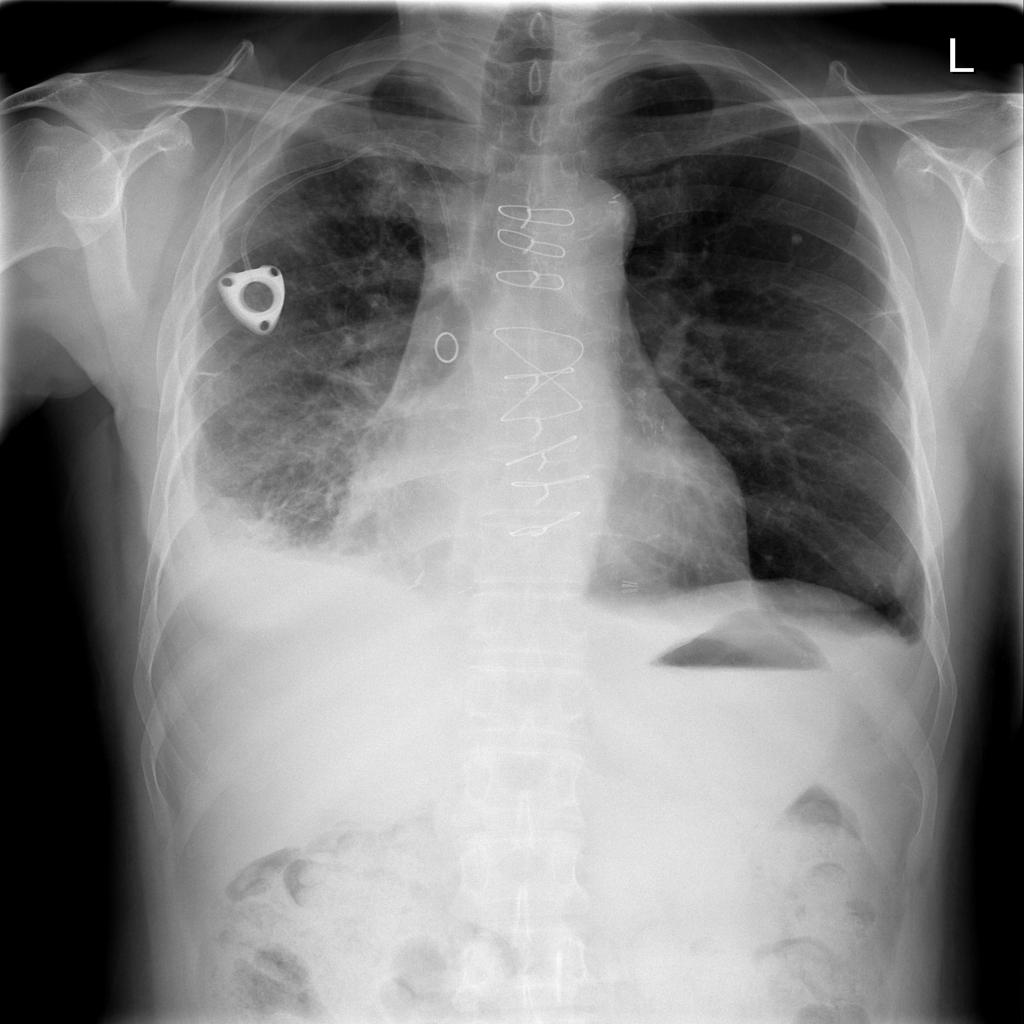nodule: (770, 214, 824, 260)
